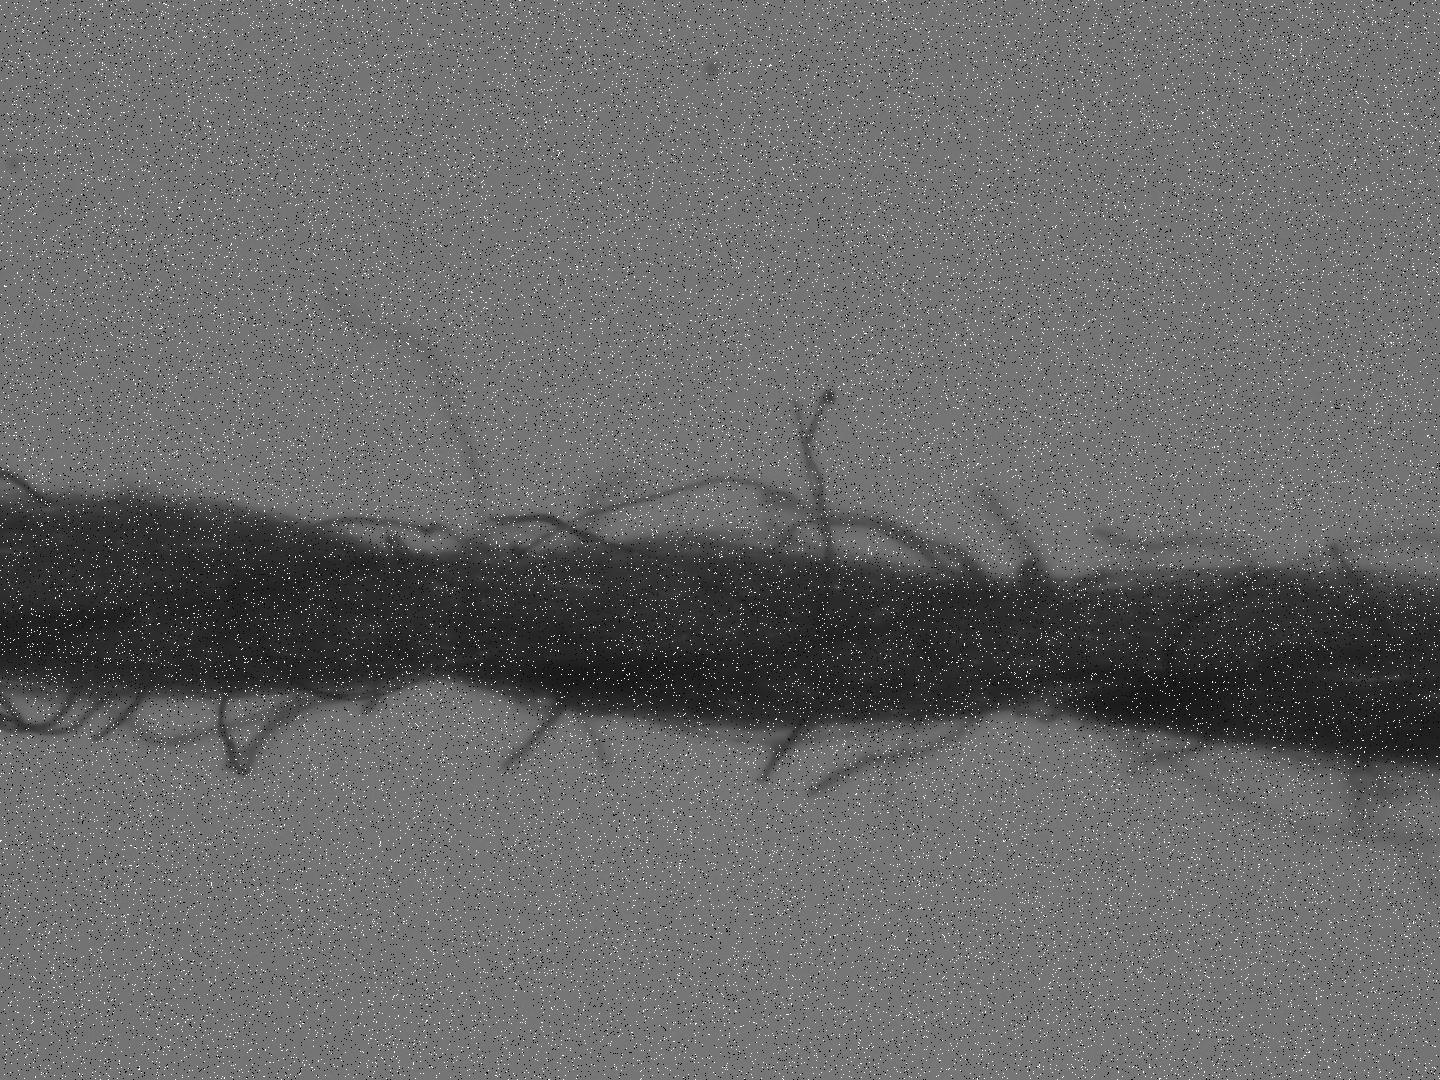loop_fiber: (303, 472, 993, 583), (1061, 717, 1440, 852), (1, 678, 422, 788), (1239, 531, 1440, 593), (630, 714, 921, 746), (1, 464, 56, 511), (1011, 560, 1048, 585)
protruding_fiber: (314, 281, 492, 565), (801, 717, 989, 800), (791, 393, 846, 585), (966, 479, 1061, 588), (1084, 523, 1269, 575), (492, 698, 570, 774), (881, 716, 935, 821), (88, 686, 160, 754), (753, 714, 811, 792), (581, 698, 616, 779)
